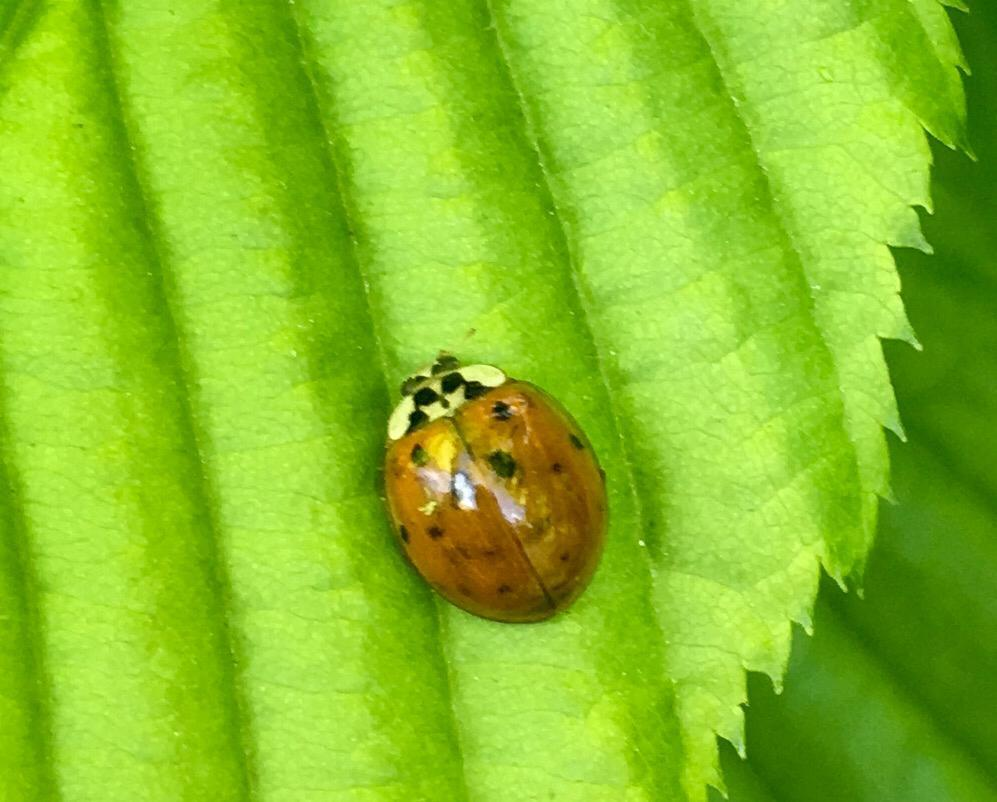ladybug: (373, 325, 613, 627)
